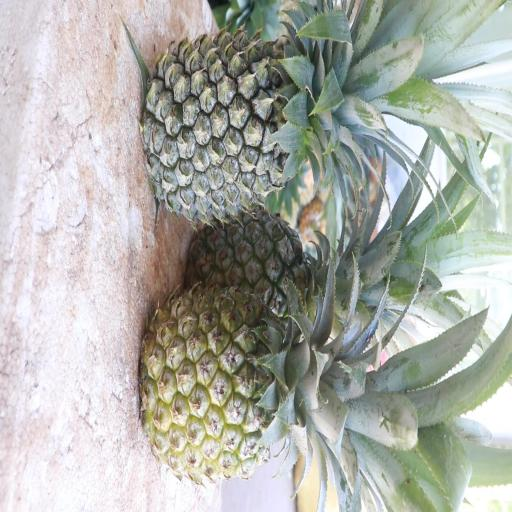------------------------------: (134, 275, 373, 484), (184, 208, 384, 358)
